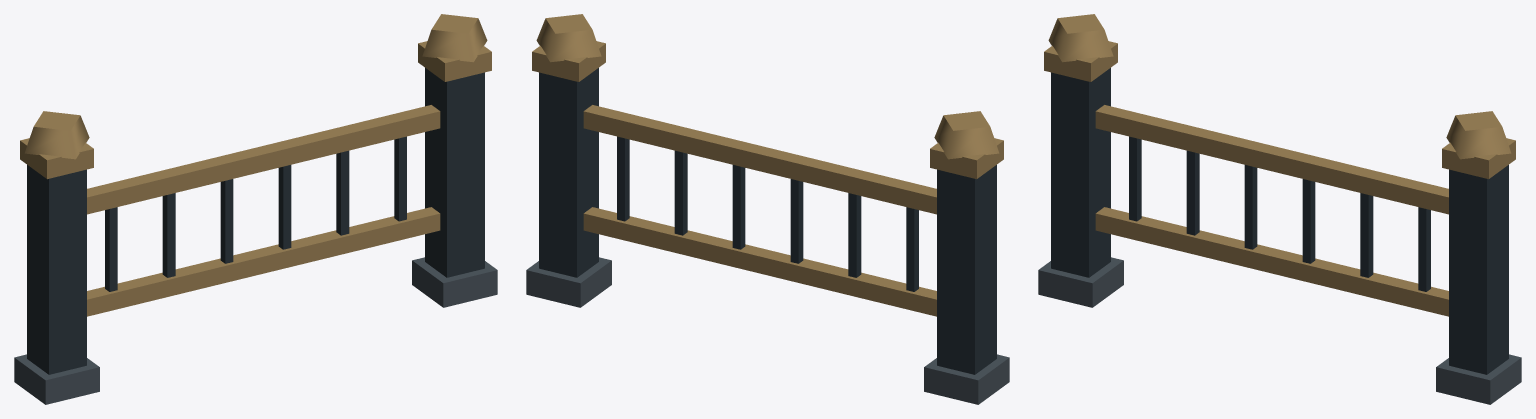
Rendered from Fence_Straight.glb.
3 views of the same model, side by side, from view 1: azimuth 30°, elevation 25°; view 2: azimuth 150°, elevation 25°; view 3: azimuth 330°, elevation 25° (orthographic).
Parts seen in each view (by area): view 1: Fence_Straight; view 2: Fence_Straight; view 3: Fence_Straight.
Boxes of the visible parts, x1,y1,x2,y2 form: Fence_Straight: (14,14,497,404); Fence_Straight: (526,14,1009,404); Fence_Straight: (1038,14,1521,404).
Size of the model in its own units: 2.56 by 1.4 by 0.36.
